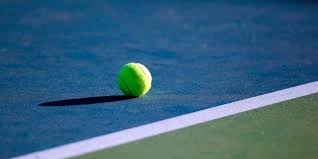tennis_ball: (118, 61, 152, 98)
